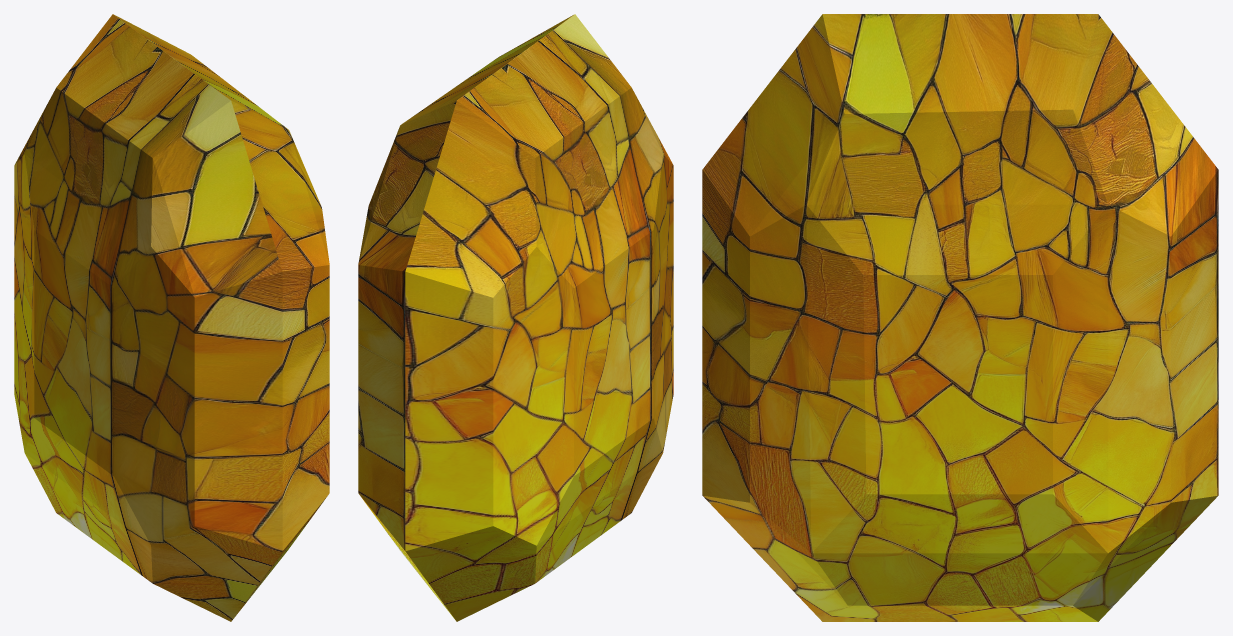
Rendered from gemstone8Yellow.glb.
3 views of the same model, side by side, from view 1: azimuth 30°, elevation 25°; view 2: azimuth 150°, elevation 25°; view 3: azimuth 270°, elevation 25° (orthographic). The views are drawn at different scales.
Parts seen in each view (by area): view 1: gemstone7; view 2: gemstone7; view 3: gemstone7.
Part boxes in pixels (x1,y1,x2,y2): gemstone7: [14, 14, 329, 621]; gemstone7: [358, 14, 673, 621]; gemstone7: [702, 14, 1218, 621].
Bounding box in the file's own units: 0.5 × 1.3 × 1.
Materials: 1 (1 with a texture image).
